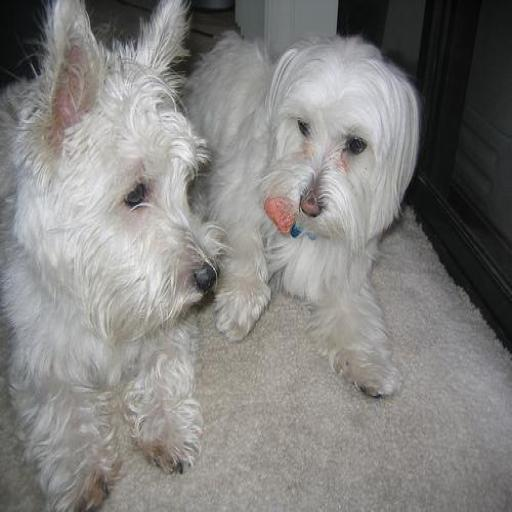dog_face: (36, 5, 221, 317), (271, 39, 410, 246)
